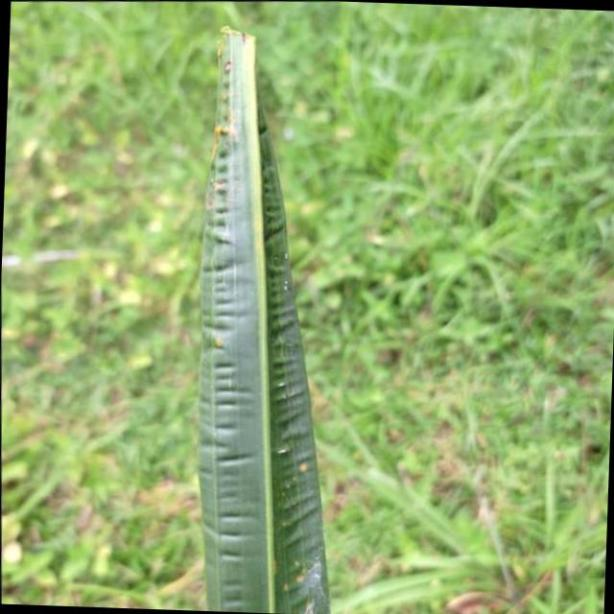Boron: (192, 14, 332, 614)
